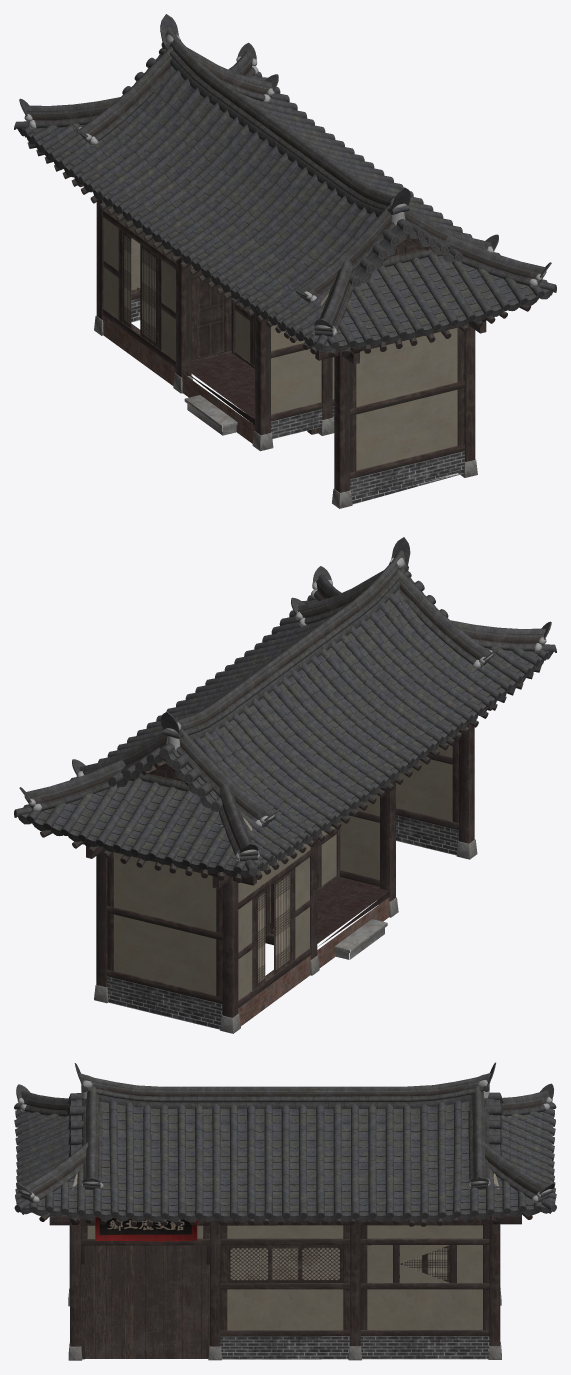
The model's file is jungmun.glb.
The picture shows the model from 3 angles, top to bottom: view 1: azimuth 30°, elevation 25°; view 2: azimuth 150°, elevation 25°; view 3: azimuth 270°, elevation 25°; orthographic projection. The views are drawn at different scales.
Parts seen in each view (by area): view 1: Middle_Gate, Middle_Gate_Roof_Concrete_01_m_0.001, Middle_Gate_Roof_Concrete_01_m_0.002; view 2: Middle_Gate, Middle_Gate_Roof_Concrete_01_m_0.001, Middle_Gate_Roof_Concrete_01_m_0.002; view 3: Middle_Gate, Middle_Gate_Roof_Concrete_01_m_0.002, Middle_Gate_Roof_Concrete_01_m_0.001.
Part boxes in pixels (x1=…): Middle_Gate: x1=22, y1=68, x2=530, y2=508; Middle_Gate_Roof_Concrete_01_m_0.001: x1=14, y1=14, x2=556, y2=352; Middle_Gate_Roof_Concrete_01_m_0.002: x1=18, y1=76, x2=553, y2=291; Middle_Gate: x1=40, y1=590, x2=548, y2=1033; Middle_Gate_Roof_Concrete_01_m_0.001: x1=14, y1=537, x2=556, y2=877; Middle_Gate_Roof_Concrete_01_m_0.002: x1=17, y1=599, x2=333, y2=870; Middle_Gate: x1=22, y1=1116, x2=552, y2=1360; Middle_Gate_Roof_Concrete_01_m_0.002: x1=25, y1=1100, x2=553, y2=1216; Middle_Gate_Roof_Concrete_01_m_0.001: x1=14, y1=1062, x2=556, y2=1222.
Size of the model in its own units: 6.12 by 7.23 by 13.3.
13 materials, 13 textured.
